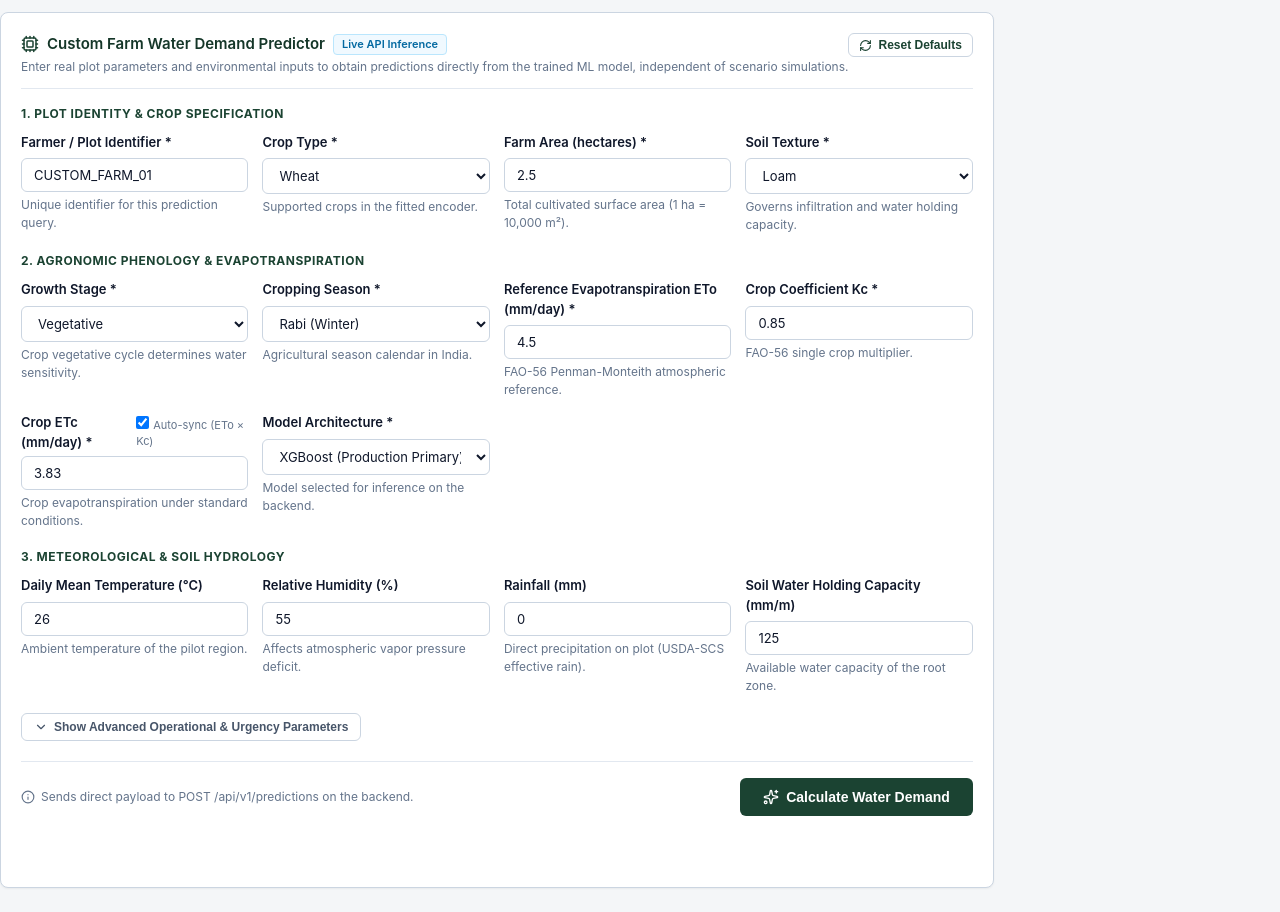
Test: CustomFarmPredictor Component & Phase 14 UI Flow › 5. submits valid form to api.predictSingle and displays API-returned predictions
This screenshot has width=1280, height=912.
Replace the text in the field labelled "Farmer / Plot Identifier *" with "CUSTOM_TEST_PLOT" at (135, 175), box [21,158,248,192]
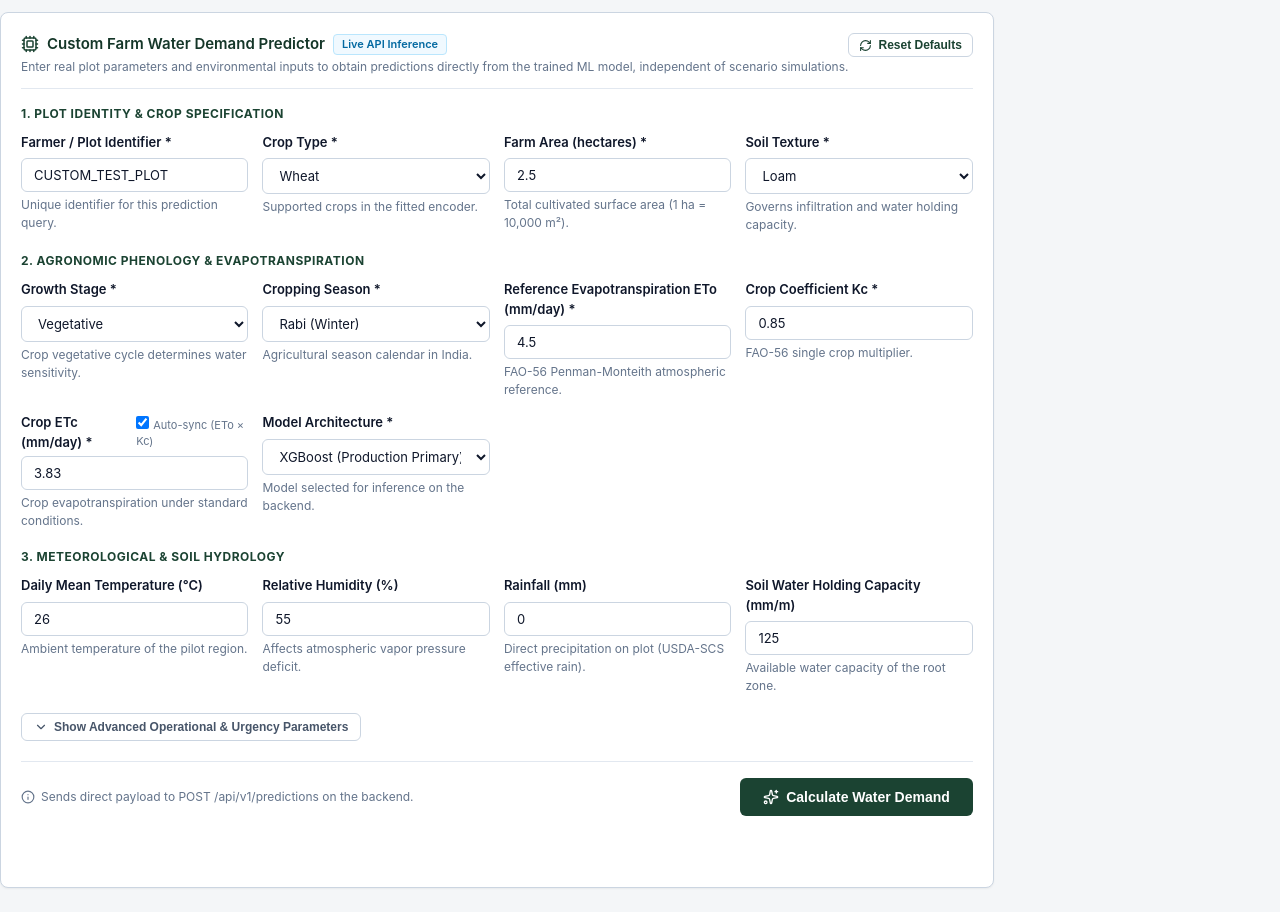
Click the button "Calculate Water Demand".
click(856, 797)  # box [740,778,973,816]
(page scrolled)
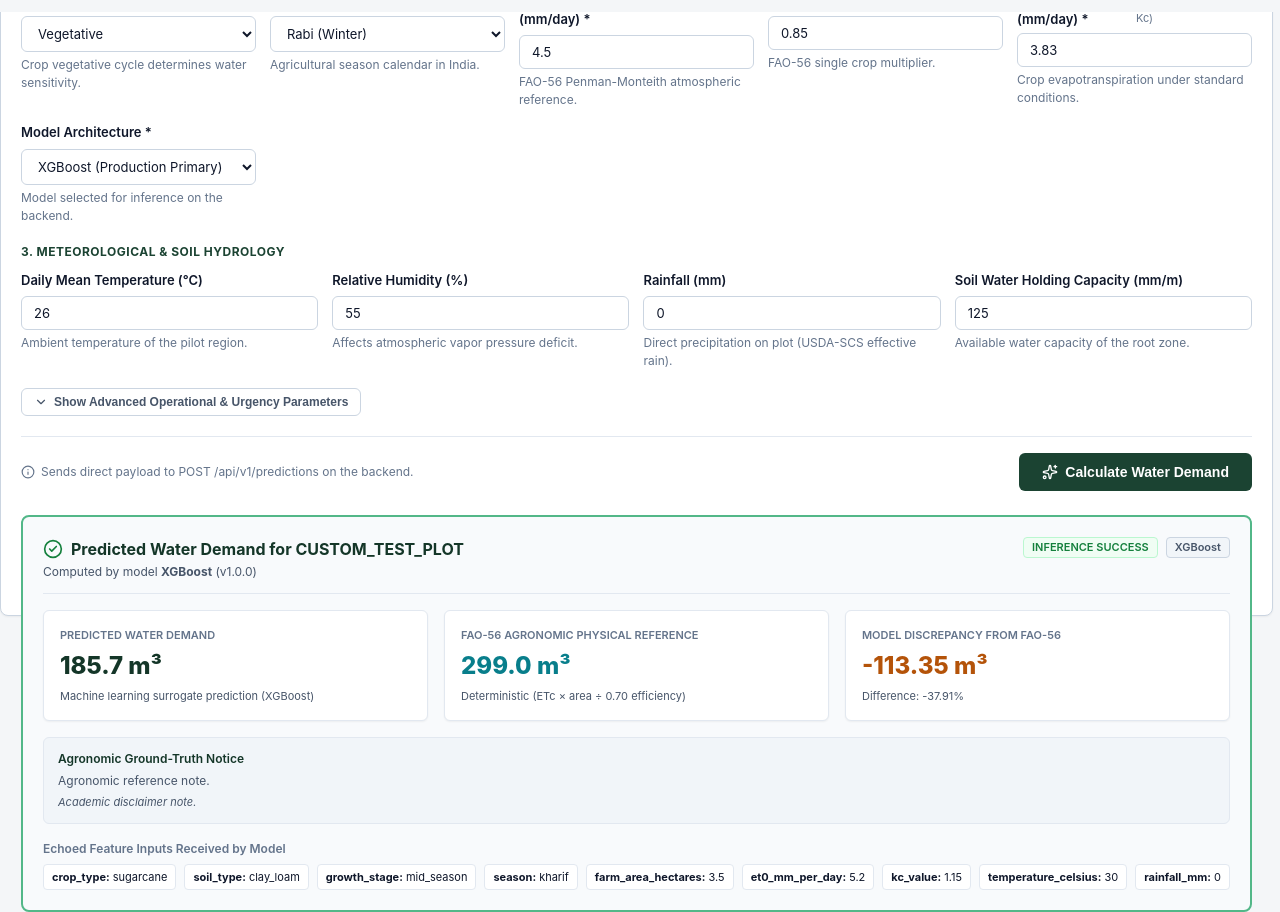
Expected: the text "Predicted Water Demand for CUSTOM_TEST_PLOT" is shown, [71,537,464,561]
Expected: the text "185.7 m³" is shown, [60,650,162,680]
Expected: the text "299.0 m³" is shown, [461,650,571,680]
